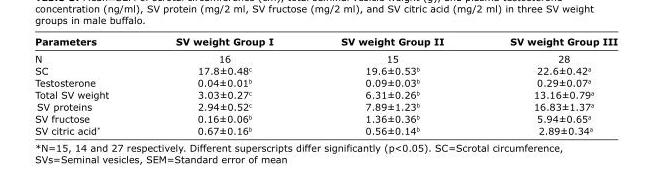table: (34, 34, 617, 135)
table column: (306, 34, 476, 135), (141, 34, 306, 135), (476, 34, 617, 135), (34, 34, 141, 135)
table column header: (34, 34, 617, 49)
table row: (34, 34, 617, 49), (34, 49, 617, 63), (34, 63, 617, 75), (34, 75, 617, 87), (34, 87, 617, 99), (34, 99, 617, 111), (34, 111, 617, 123), (34, 123, 617, 135)
